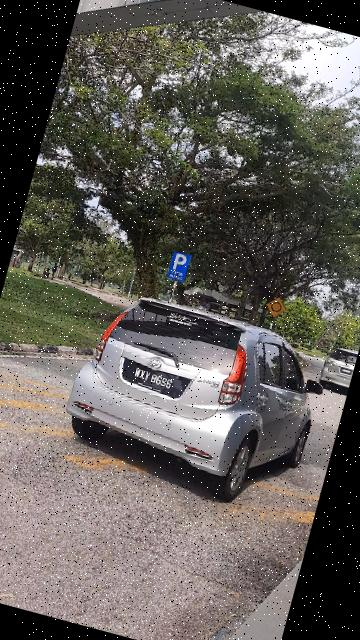License_Plate: (118, 357, 194, 404)
car: (53, 281, 341, 521)
